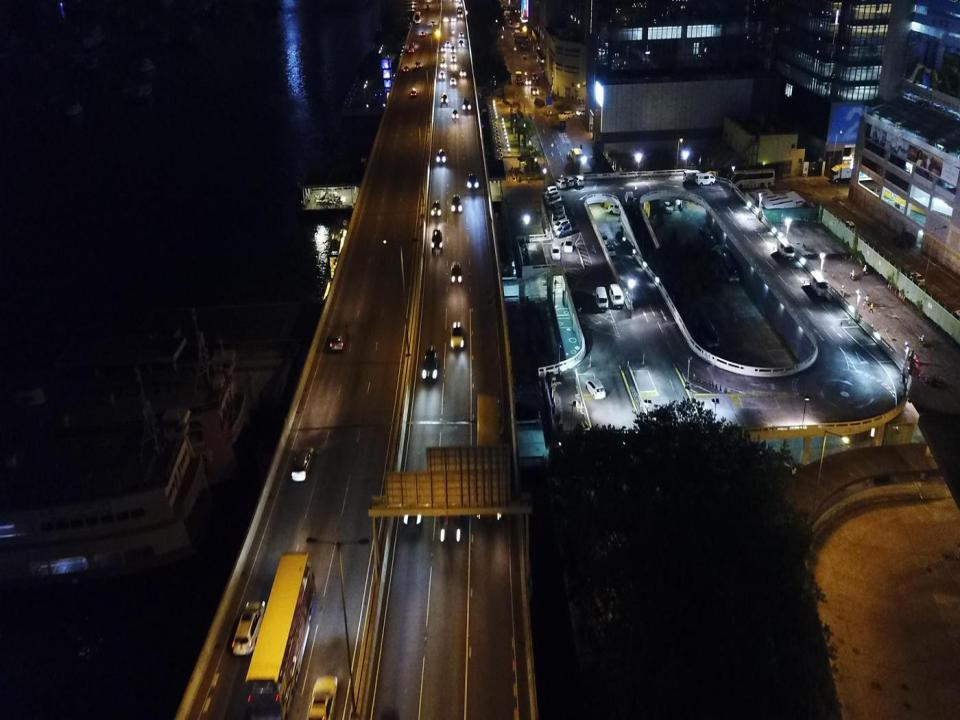bus: (245, 552, 315, 719), (477, 392, 504, 519), (692, 305, 719, 349), (728, 167, 775, 189), (716, 244, 740, 283), (698, 226, 716, 250), (414, 11, 421, 23), (408, 41, 415, 53), (457, 6, 462, 18)
car: (232, 601, 265, 656), (307, 675, 338, 719), (440, 490, 462, 542), (403, 483, 425, 526), (292, 446, 314, 481), (421, 346, 437, 380), (585, 378, 605, 401), (450, 321, 464, 348), (431, 228, 444, 250), (554, 223, 573, 238), (450, 262, 462, 282), (553, 218, 570, 231), (549, 208, 565, 221), (552, 213, 567, 226), (910, 272, 924, 285), (452, 194, 461, 212), (550, 203, 564, 214), (468, 173, 478, 188), (543, 186, 558, 196), (554, 177, 566, 189), (548, 195, 561, 206), (573, 174, 584, 187), (545, 191, 559, 201), (432, 199, 440, 216), (563, 176, 574, 188), (663, 201, 673, 214), (437, 149, 446, 163), (563, 110, 575, 118), (410, 88, 418, 97), (576, 109, 588, 115), (452, 109, 459, 119), (532, 87, 538, 96), (458, 40, 465, 47), (460, 68, 466, 76), (524, 78, 532, 84), (450, 46, 456, 53), (450, 78, 456, 85), (420, 30, 426, 37), (452, 55, 457, 63), (440, 72, 445, 80), (404, 65, 410, 71), (441, 45, 446, 52), (446, 40, 450, 48), (535, 78, 539, 86), (444, 16, 449, 22), (460, 31, 464, 38), (451, 16, 456, 21), (426, 4, 430, 9), (509, 24, 514, 27)
truck: (830, 165, 858, 183), (579, 162, 592, 179), (572, 148, 584, 164), (557, 114, 566, 129), (515, 70, 522, 84), (515, 29, 520, 42)
van: (330, 324, 348, 351), (809, 270, 827, 296), (609, 283, 624, 309), (776, 238, 794, 258), (596, 286, 608, 312), (684, 170, 702, 183), (696, 174, 715, 186), (608, 203, 626, 215), (844, 220, 857, 233), (564, 236, 573, 253), (550, 244, 560, 259), (605, 245, 616, 257), (600, 232, 608, 247), (462, 97, 470, 110), (441, 92, 448, 104), (570, 148, 577, 158), (415, 60, 420, 70), (532, 72, 537, 80), (430, 20, 435, 26)
